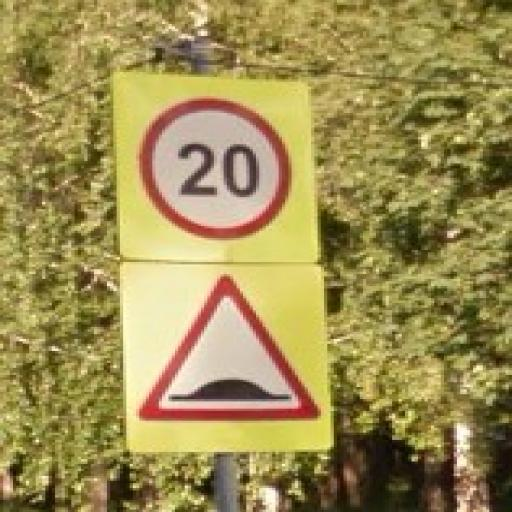traffic_sign: (137, 273, 325, 424), (137, 97, 293, 244)
